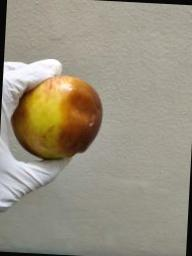Apple Overripe: (9, 68, 106, 160)
